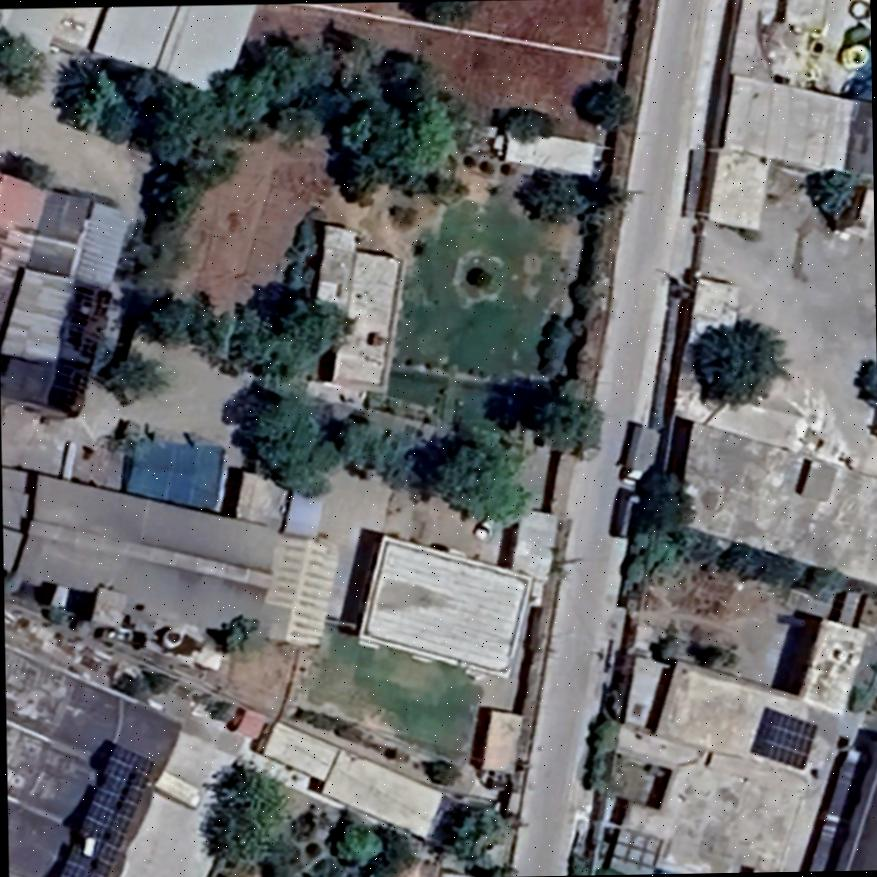Solarpanel: (39, 734, 164, 877), (748, 702, 818, 777)
